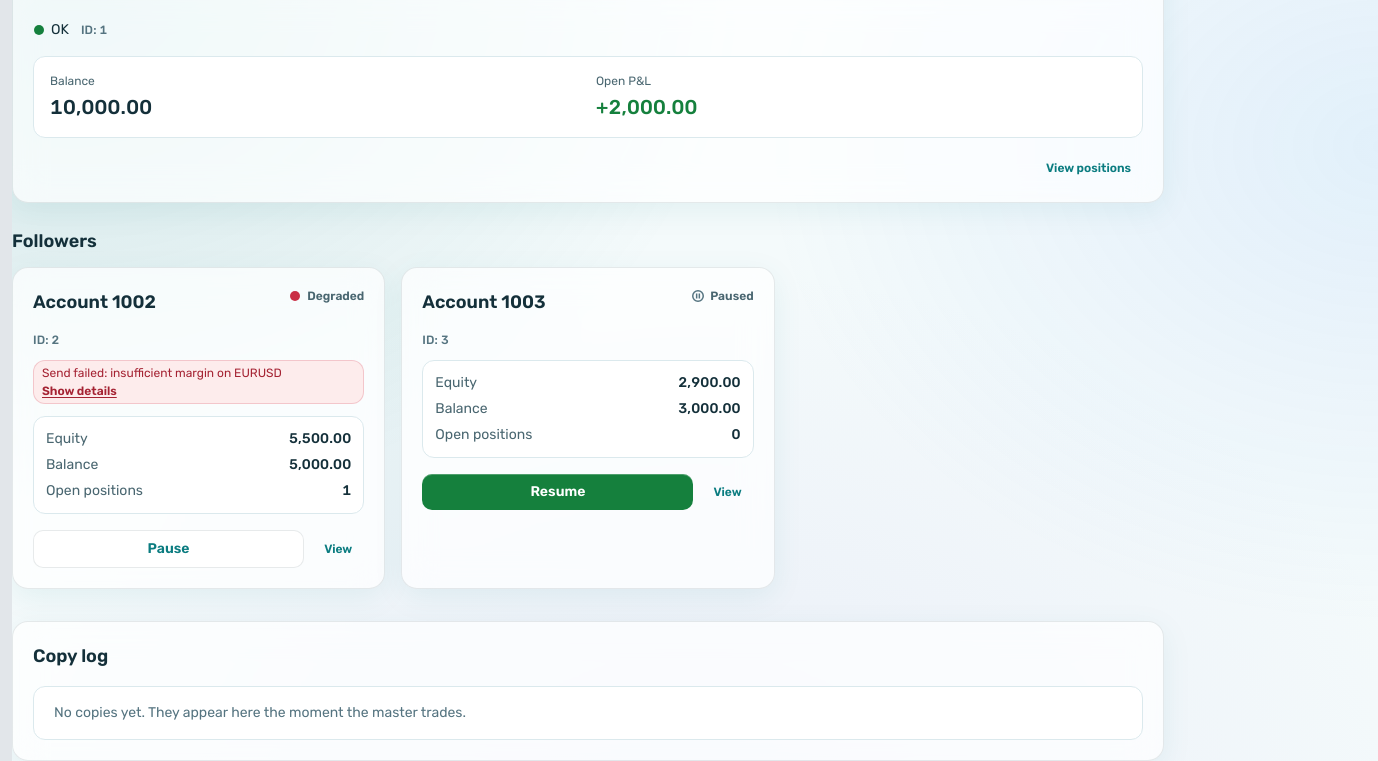
Scenario: degraded slave tile shows the last_error reason
(page scrolled)
Check: the text "Send failed: insufficient margin on EURUSD" is shown, box [42,365,282,381]
Check: the text with test id "slave-last-error" reads "Send failed: insufficient margin on EURUSD", box [42,366,282,380]
Click the button "Show details".
click(79, 391)  # box [42,383,117,399]
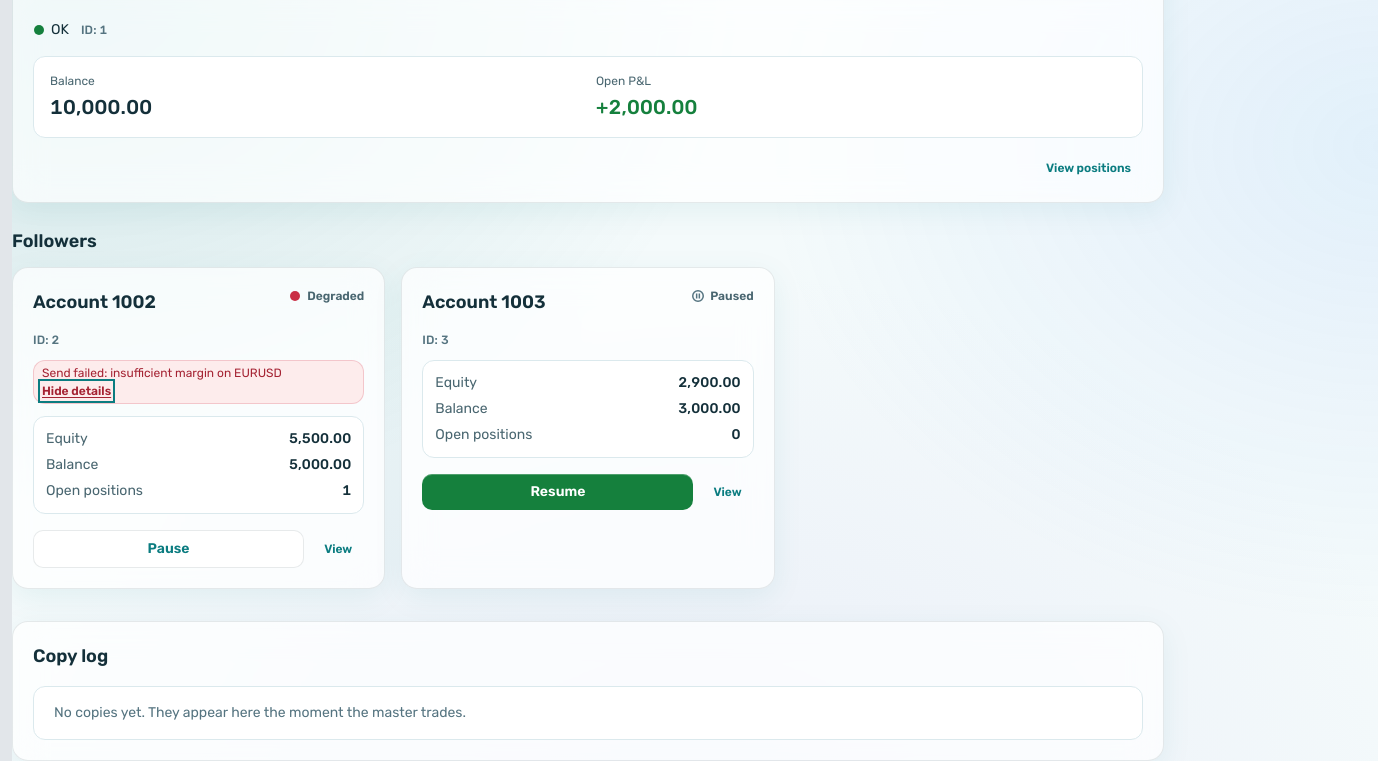
Check: the button "Hide details" is expanded, box [42,383,111,399]
